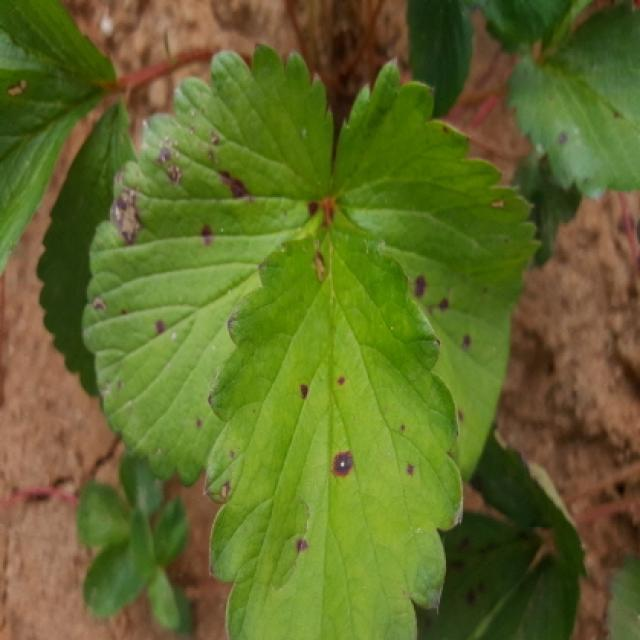Leaf Spot: (202, 202, 465, 638), (82, 43, 333, 487), (330, 56, 543, 484), (506, 3, 638, 199)
